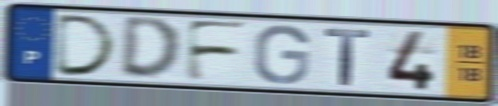4: (385, 28, 437, 92)
D: (117, 15, 185, 83), (52, 13, 121, 78)
F: (182, 18, 252, 84)
G: (250, 23, 313, 86)
T: (322, 27, 373, 88)
